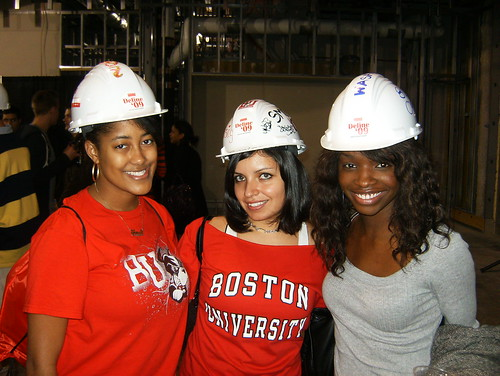person hardhat: (21, 61, 191, 374), (315, 74, 482, 376), (196, 94, 331, 376)
